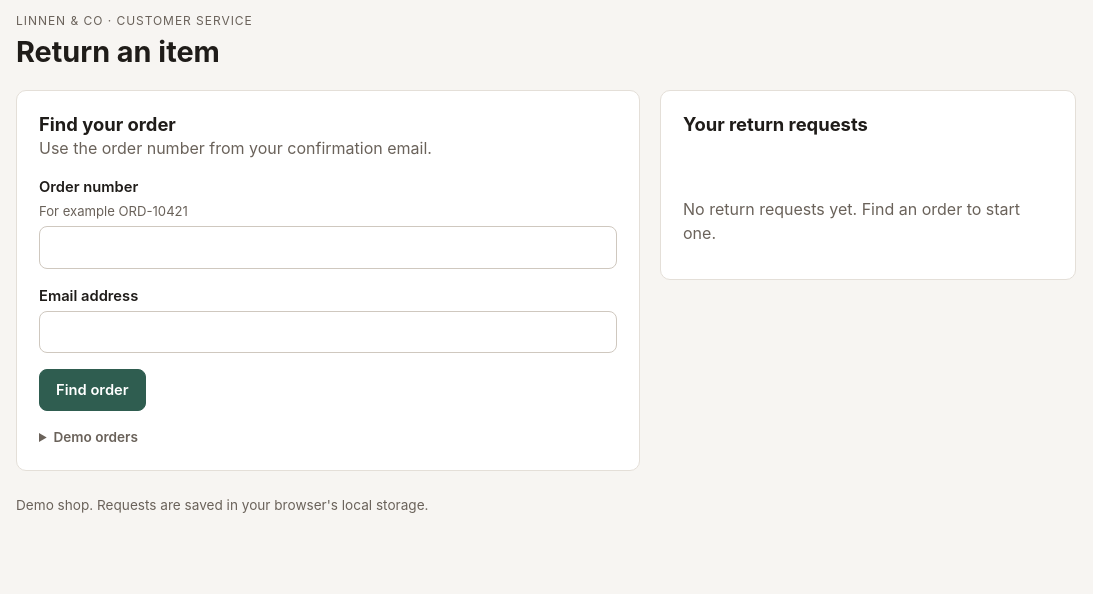
Test: Returns app › shows one message for a wrong email and a separate one when the service is down
The width and height of the screenshot is (1093, 594).
Type "ORD-10421" into the field labelled "Order number".
click(328, 247); type("ORD-10421")  # box x1=39 y1=226 x2=617 y2=269
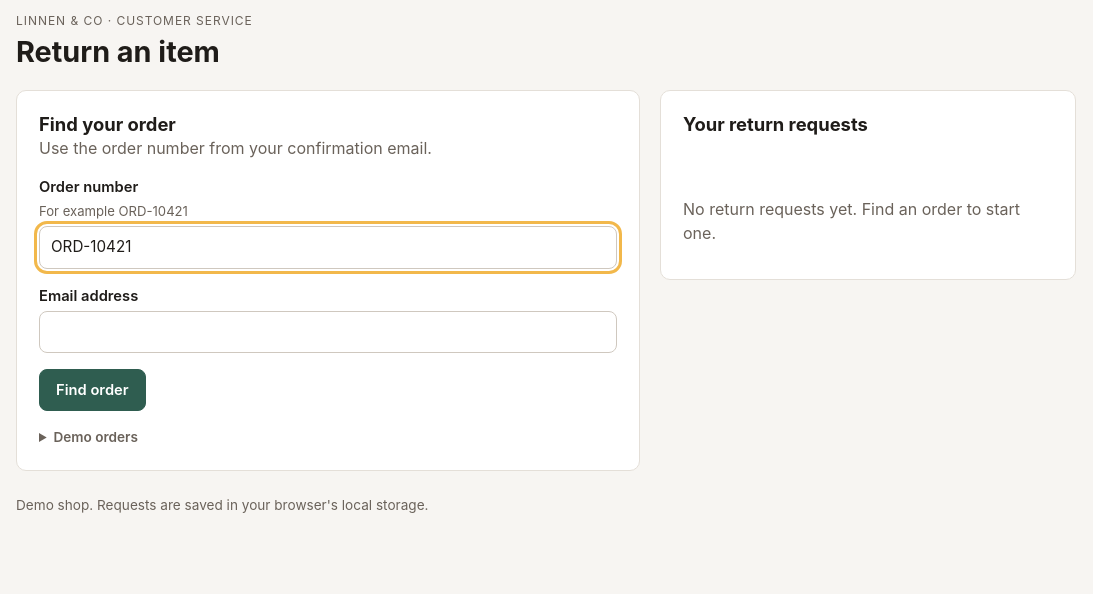
Type "wrong@example.com" into the field labelled "Email address".
click(328, 332); type("wrong@example.com")  # box x1=39 y1=311 x2=617 y2=353
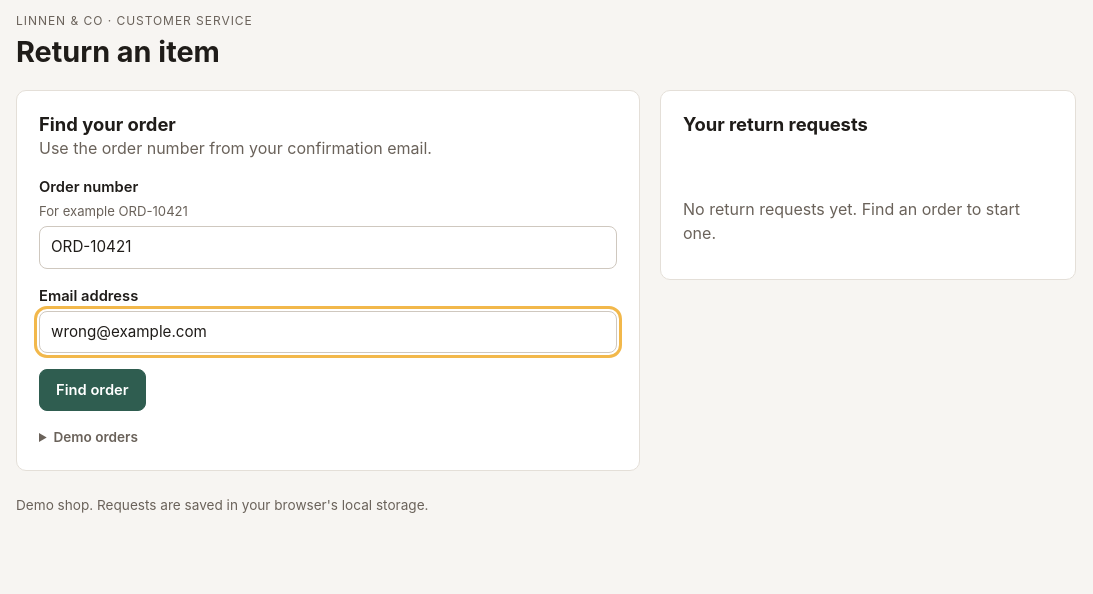
Click the button "Find order".
click(92, 390)  # box x1=39 y1=369 x2=146 y2=412
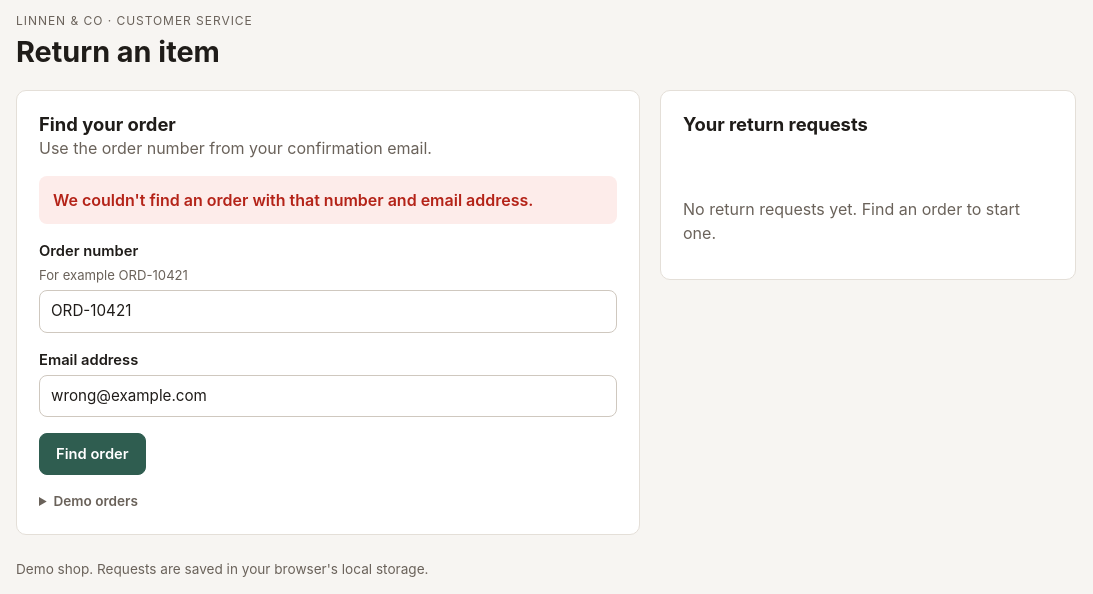
Check: the text "We couldn't find an order with that number and email address." is shown, box x1=39 y1=176 x2=617 y2=224
Replace the text in the field labelled "Order number" with "ORD-99999" at x=328, y=311, box x1=39 y1=290 x2=617 y2=333
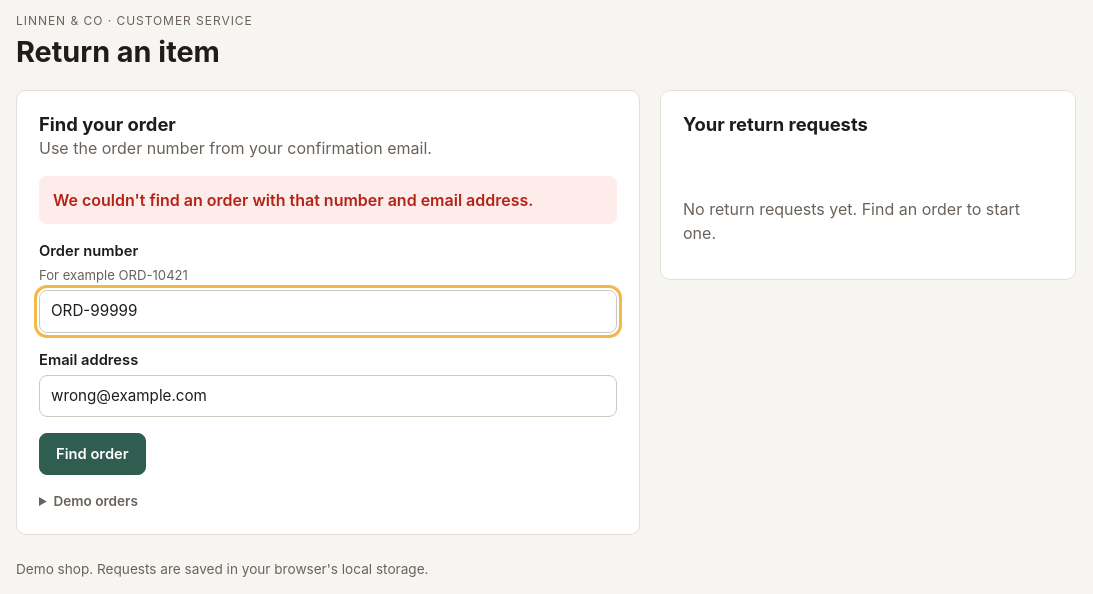
Click the button "Find order".
click(92, 454)  # box x1=39 y1=433 x2=146 y2=476
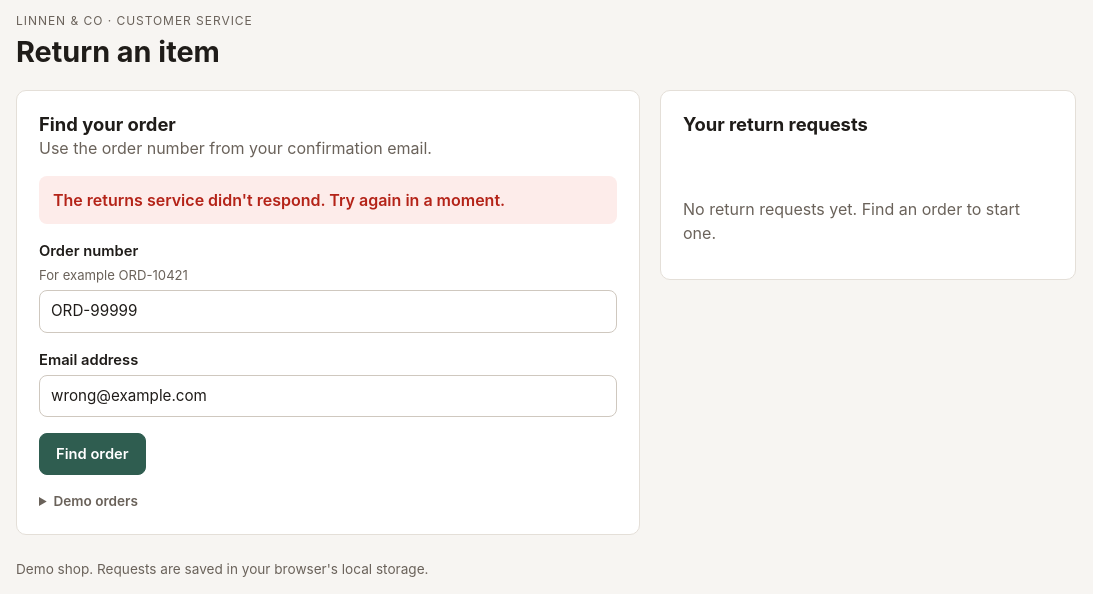
Check: the text "The returns service didn't respond. Try again in a moment." is shown, box x1=39 y1=176 x2=617 y2=224
